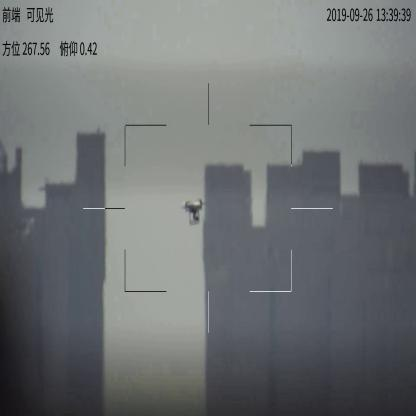uav: (181, 198, 206, 226)
